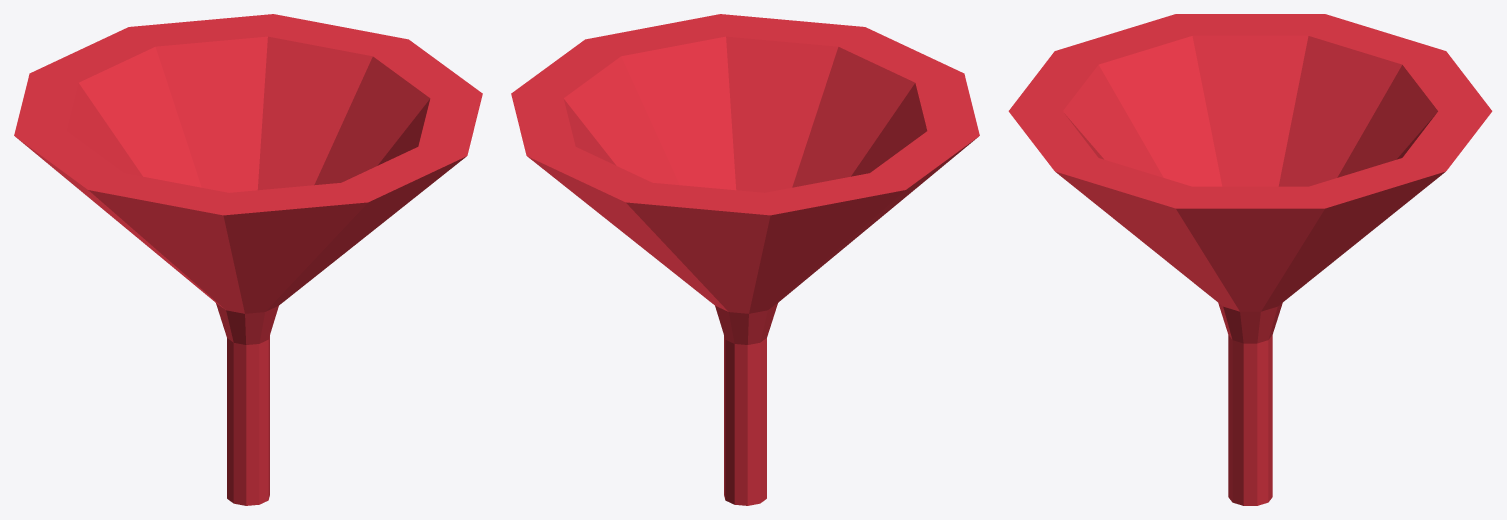
Rendered from corong.fbx.
The picture shows the model from 3 angles, left to right: view 1: azimuth 30°, elevation 25°; view 2: azimuth 150°, elevation 25°; view 3: azimuth 270°, elevation 25°; orthographic projection.
Parts seen in each view (by area): view 1: corong; view 2: corong; view 3: corong.
Part boxes in pixels (x1,y1,x2,y2): corong: [14, 14, 482, 505]; corong: [511, 14, 979, 505]; corong: [1008, 14, 1492, 505].
Size of the model in its own units: 29.02 by 26.83 by 30.51.
